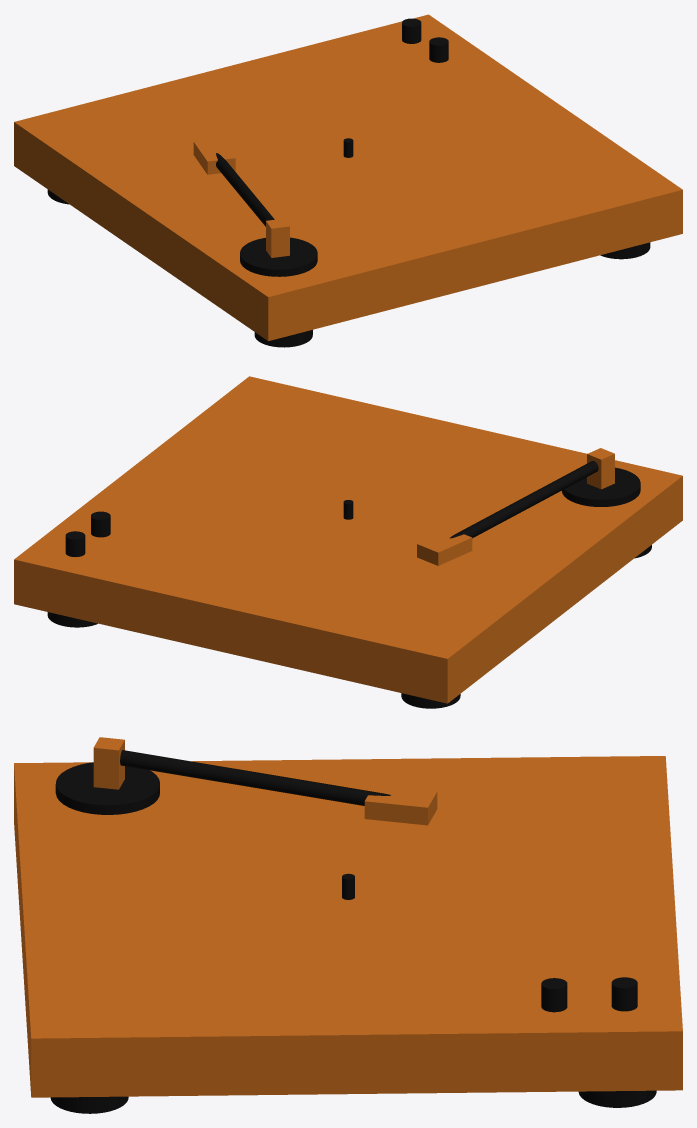
Rendered from plattenspieler.dae.
3 views of the same model, one above another, from view 1: azimuth 30°, elevation 25°; view 2: azimuth 150°, elevation 25°; view 3: azimuth 270°, elevation 25° (orthographic). The views are drawn at different scales.
Visible parts, largest first — view 1: Würfel.18, Zylinder.7, Würfel.21, Zylinder.6, Würfel.19, Zylinder.8; view 2: Würfel.18, Zylinder.6, Zylinder.7, Würfel.21, Würfel.19, Zylinder.13; view 3: Würfel.18, Zylinder.6, Zylinder.7, Würfel.21, Würfel.19, Zylinder.11, Zylinder.10, Zylinder.13, Zylinder.12.
Part boxes in pixels (x1,y1,x2,y2): Würfel.18: (14,14,682,341); Zylinder.7: (240,237,317,276); Würfel.21: (193,138,235,174); Zylinder.6: (216,153,274,226); Würfel.19: (266,218,289,257); Zylinder.8: (254,330,312,347); Würfel.18: (14,376,682,703); Zylinder.6: (449,461,598,538); Zylinder.7: (562,467,640,506); Würfel.21: (417,529,472,565); Würfel.19: (587,448,614,489); Zylinder.13: (65,531,85,557); Würfel.18: (14,756,682,1097); Zylinder.6: (120,750,390,805); Zylinder.7: (55,762,159,814); Würfel.21: (364,785,437,825); Würfel.19: (93,737,124,789); Zylinder.11: (50,1096,128,1113); Zylinder.10: (578,1090,656,1107); Zylinder.13: (611,977,637,1011); Zylinder.12: (541,978,567,1012).
Size of the model in its own units: 51.3 by 11.33 by 51.3.
